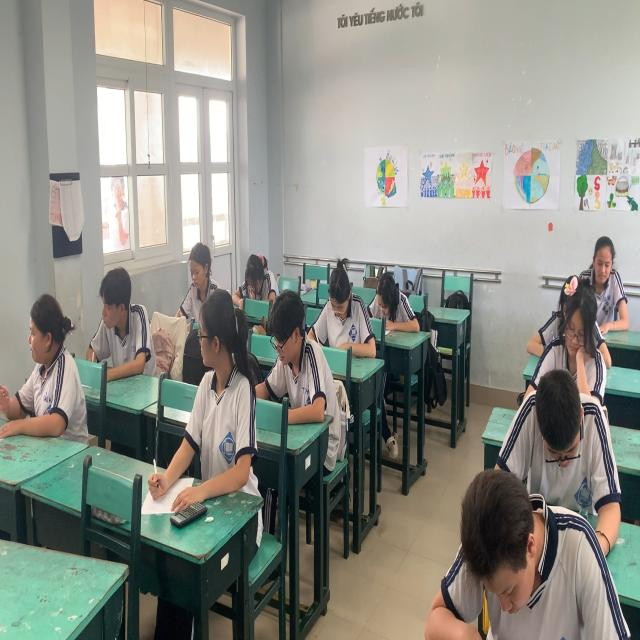cheating: (187, 295, 251, 493), (20, 288, 72, 406), (100, 268, 136, 358)
not_cheating: (436, 468, 574, 640), (519, 362, 595, 472), (263, 302, 323, 403), (323, 254, 364, 354), (556, 278, 601, 362), (232, 248, 278, 303), (578, 234, 618, 288), (372, 268, 401, 327), (183, 241, 214, 292)
